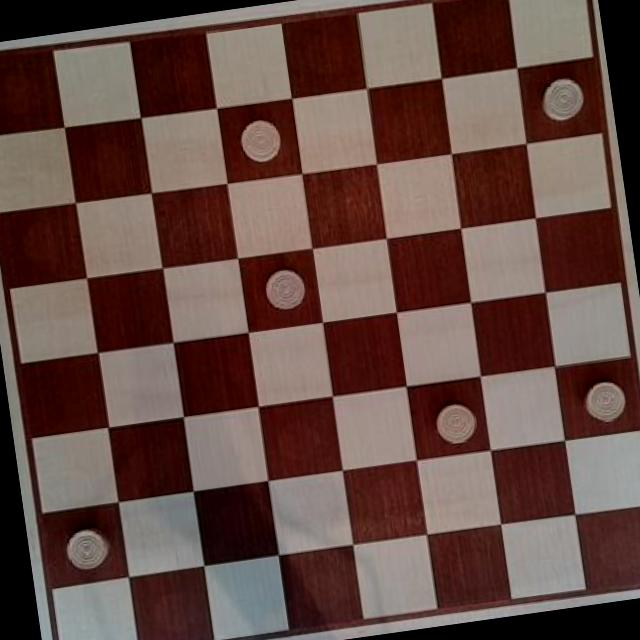BOARD: (0, 0, 640, 640)
white: (255, 258, 319, 323), (230, 111, 290, 173), (532, 70, 594, 128), (574, 374, 634, 429), (429, 394, 483, 448), (59, 525, 112, 574)
